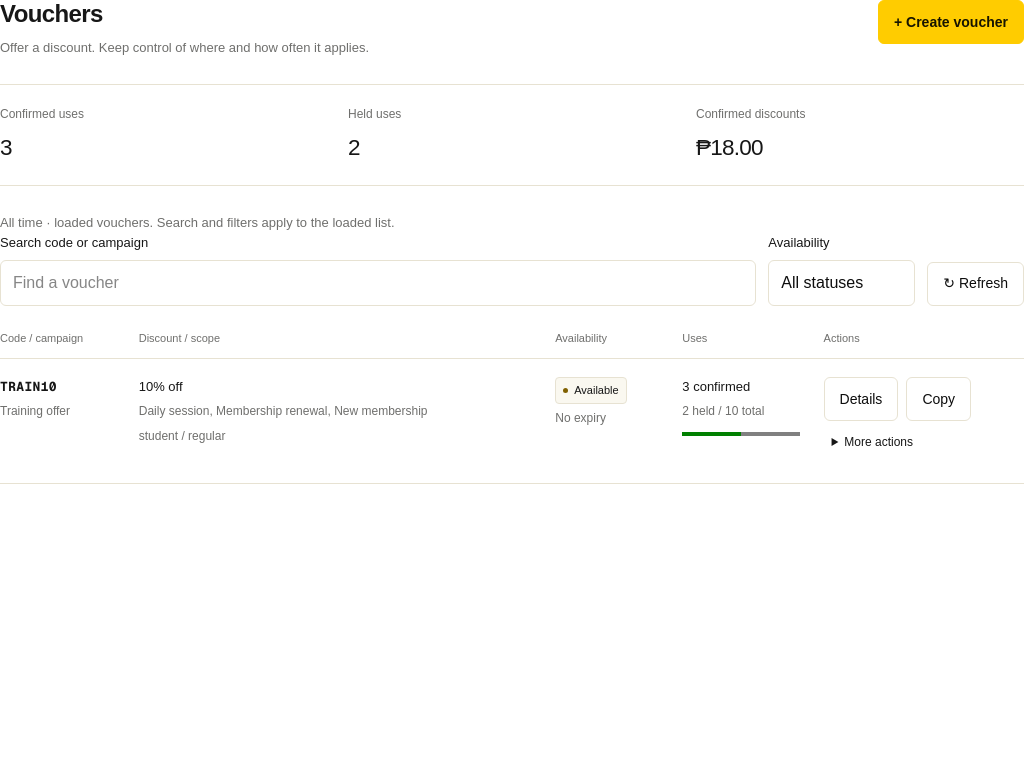
creates a voucher with explicit scopes and integer centavos
Expected: the text "3 confirmed" is shown, [682,380,750,394]
Expected: the text "2 held / 10 total" is shown, [682,404,764,418]
Click the button "+ Create voucher" at (951, 22), box [878,0,1023,44]
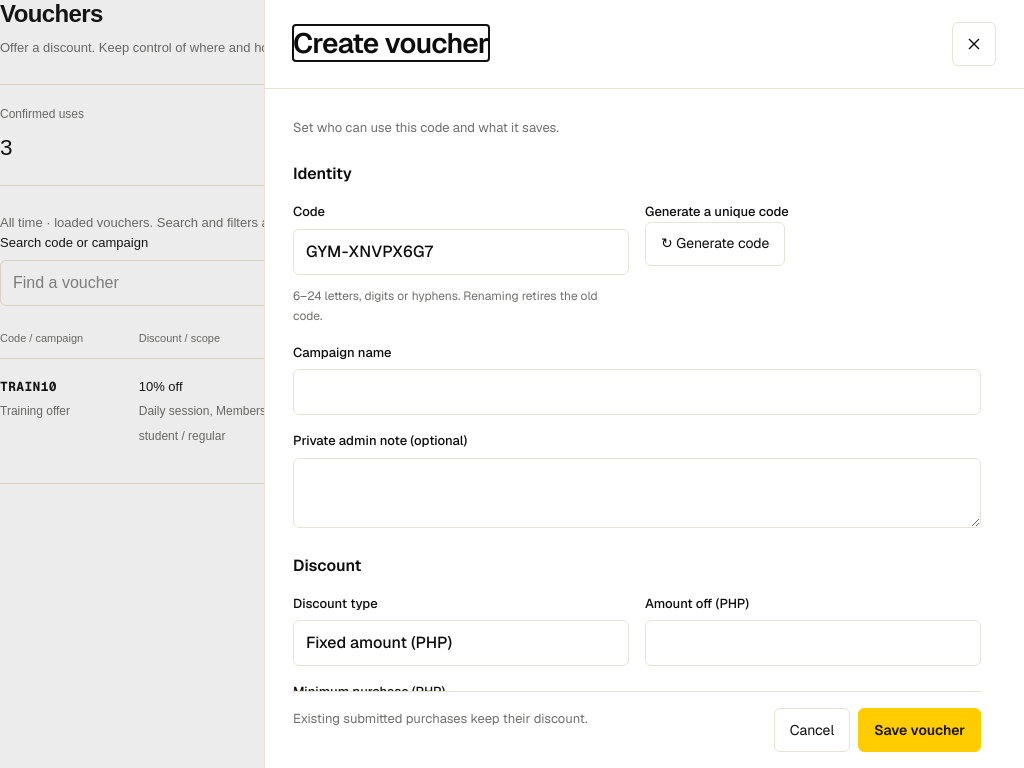
Replace the text in the field labelled "Code" with "DAILY10" at (461, 252), box [293,229,629,275]
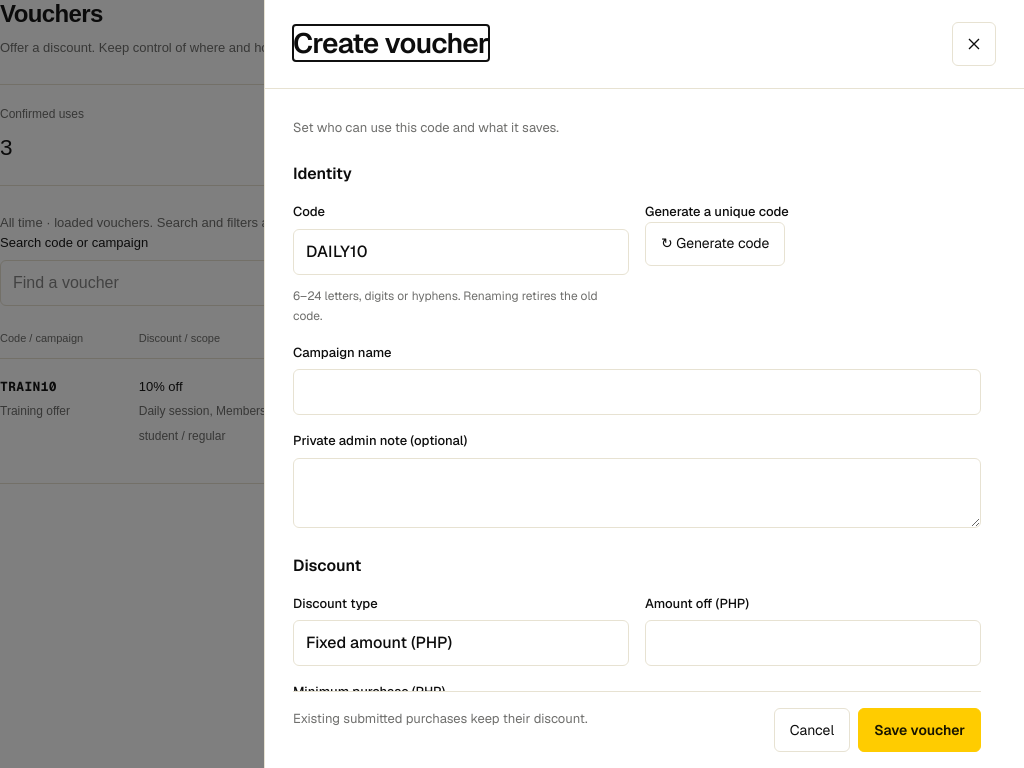
Type "Daily kickoff" into the field labelled "Campaign name" at (637, 392), box [293,369,981,415]
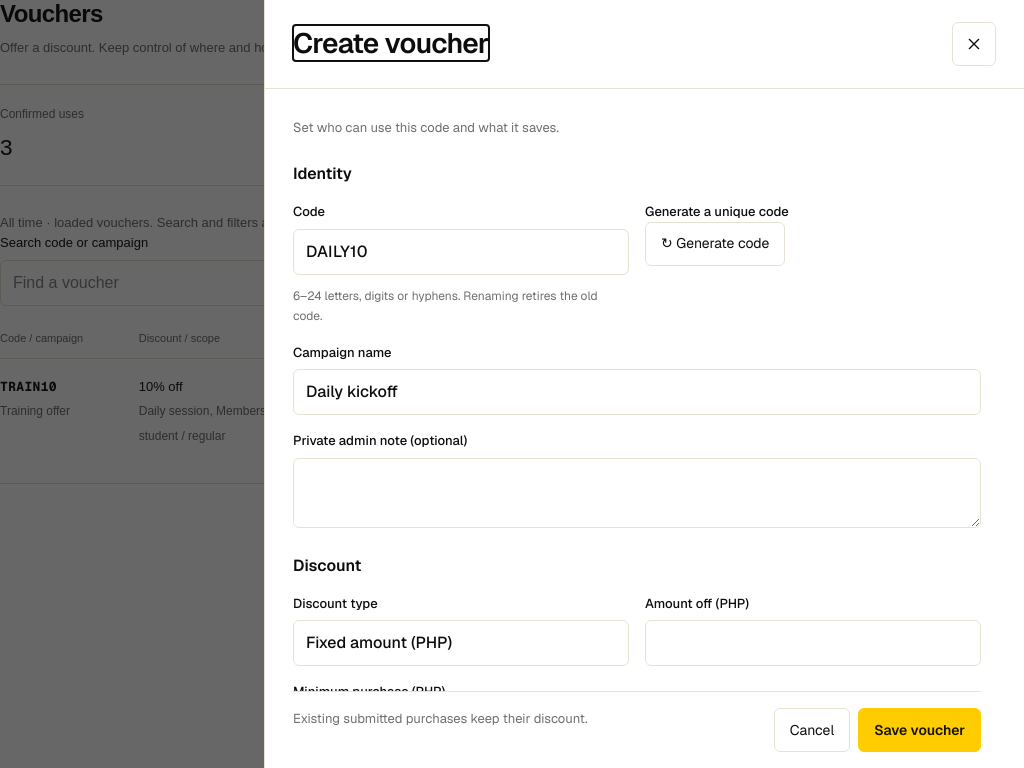
Type "10" into the field labelled "Amount off (PHP)" at (813, 643), box [645,620,981,666]
(page scrolled)
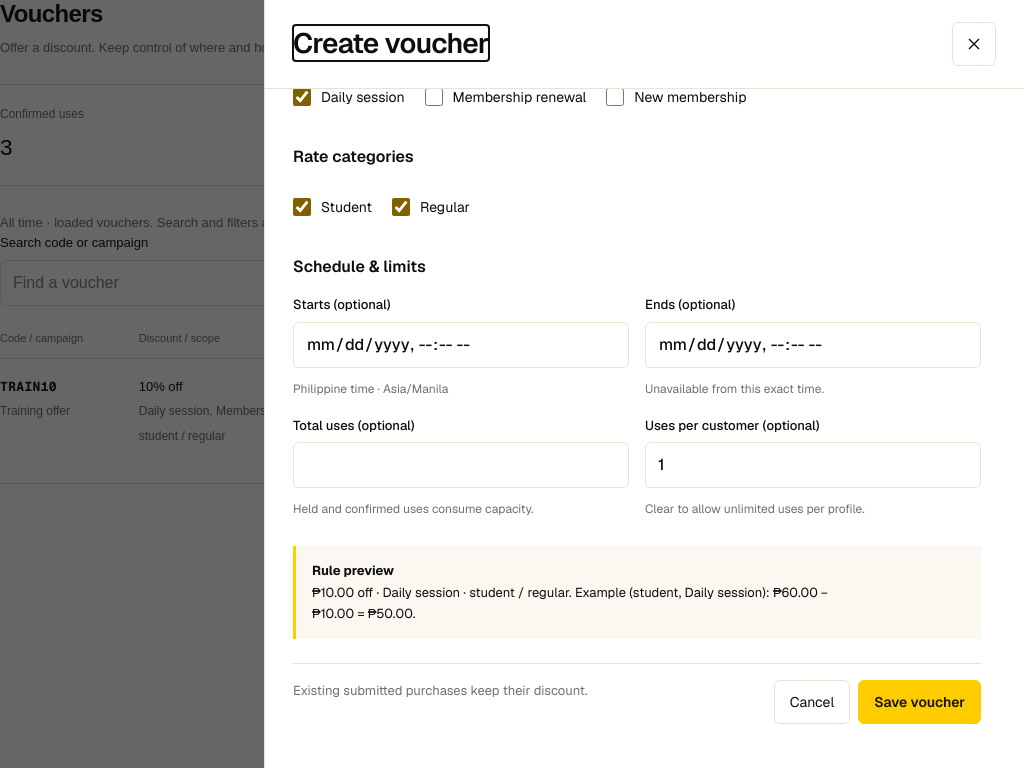
Type "20" into the field labelled "Total uses (optional)" at (461, 465), box [293,442,629,488]
(page scrolled)
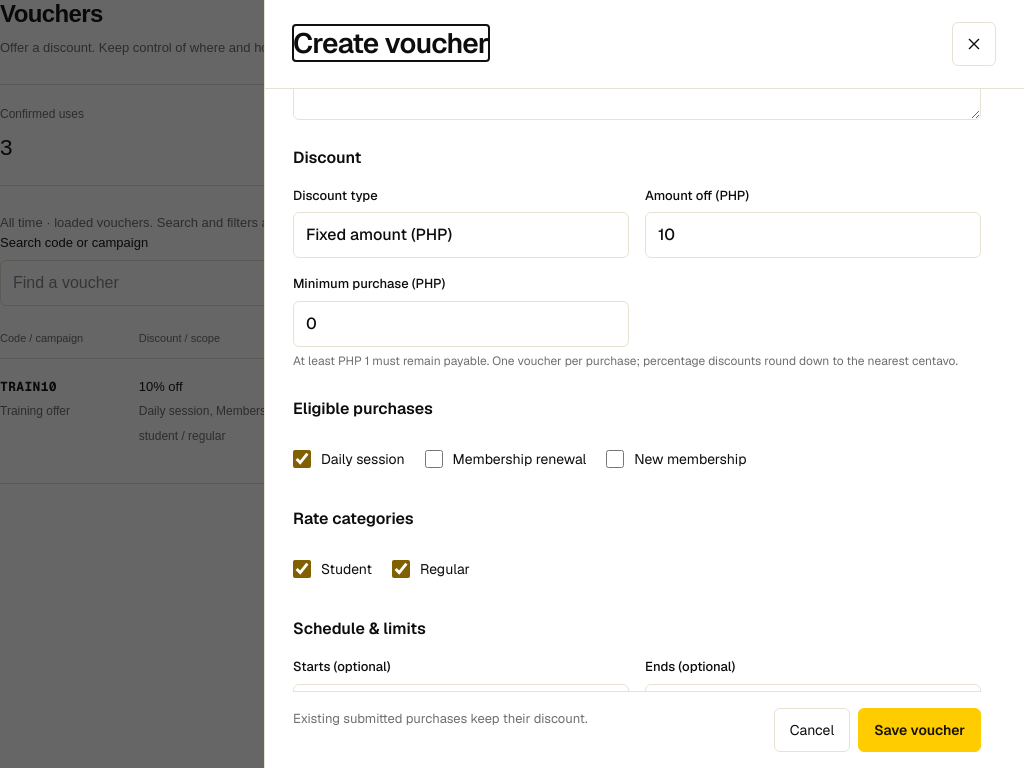
Submit the form named "Save voucher"
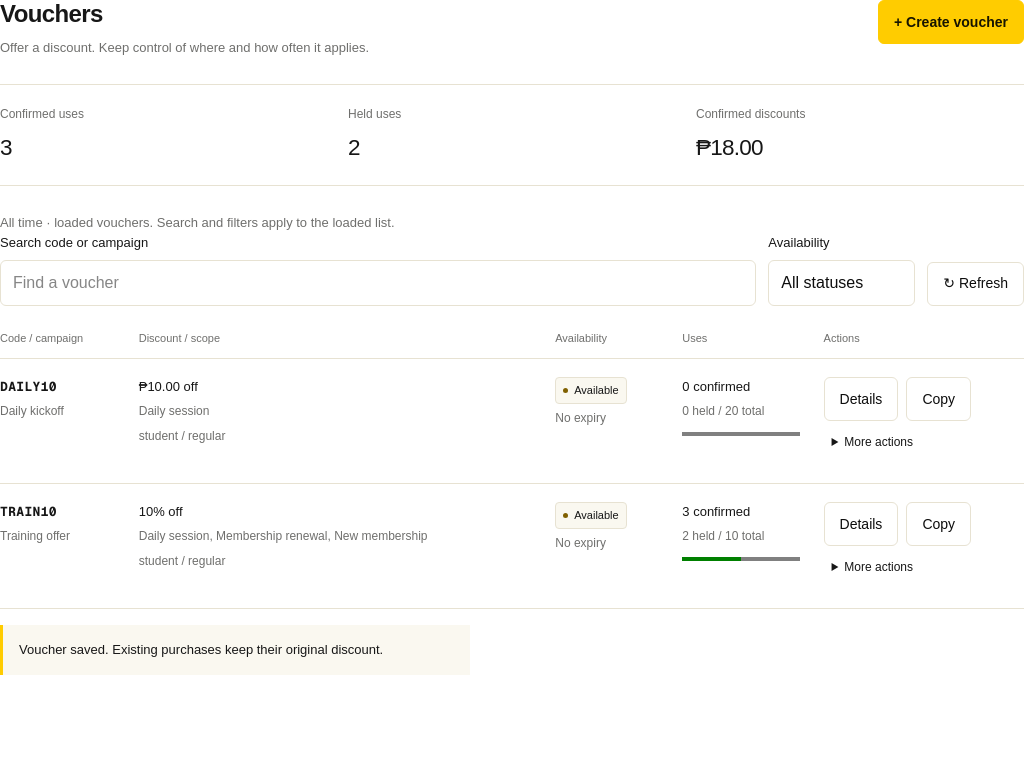
Expected: the text "Voucher saved. Existing purchases keep their original discount." is shown, [0,626,470,675]
